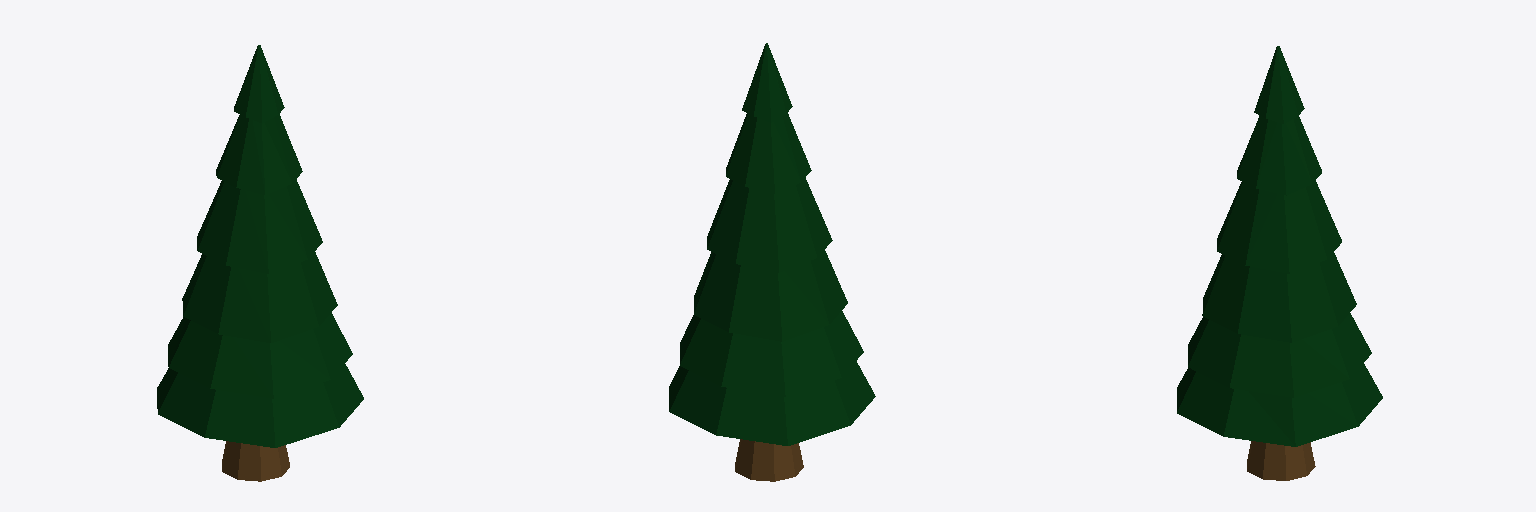
File: lowpolytree2.obj
3 renders of one model, left to right at view 1: azimuth 30°, elevation 25°; view 2: azimuth 150°, elevation 25°; view 3: azimuth 270°, elevation 25°, orthographic.
Parts seen in each view (by area): view 1: Object.1, Object.3; view 2: Object.1, Object.3; view 3: Object.1, Object.3.
Boxes of the visible parts, x1,y1,x2,y2 form: Object.1: [157, 45, 363, 447]; Object.3: [222, 441, 289, 481]; Object.1: [669, 43, 875, 445]; Object.3: [735, 439, 803, 481]; Object.1: [1177, 46, 1382, 446]; Object.3: [1247, 441, 1315, 480].
Size of the model in its own units: 58.56 by 130 by 57.81.